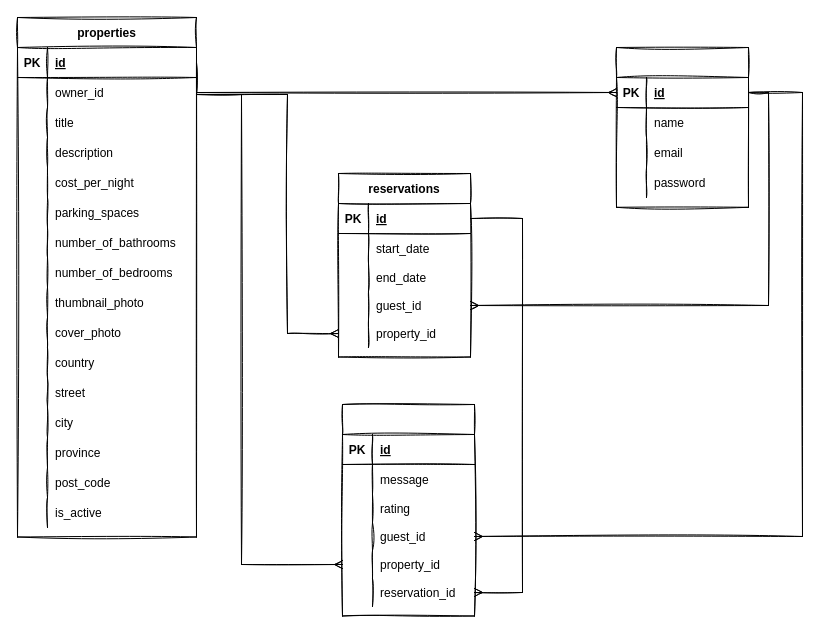
This 819x633 diagram has some shape labels left out. The box of each missing label's shape, as (x1, y1, x2, y2) in pixels:
property_reviews: (342, 404, 474, 616)
users: (616, 46, 748, 207)
